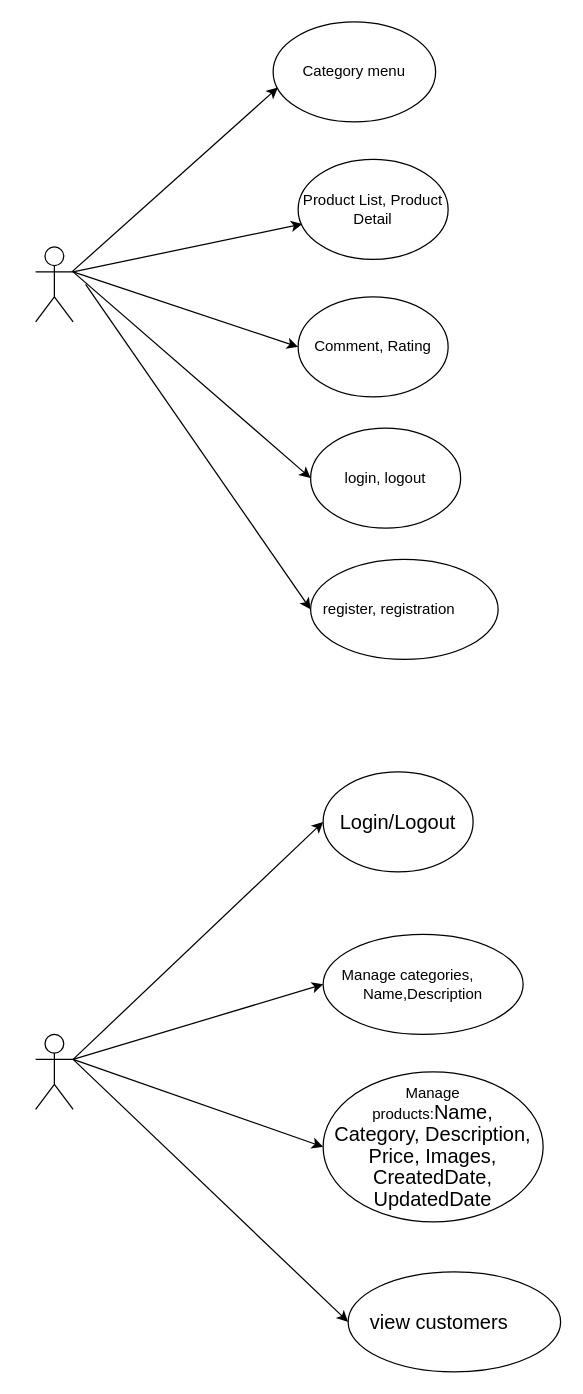
Some shapes in this 583 by 1394 pixel diagram are drawn without their labels. Here are the shapes that lost their labels. From the top down, the centre of each, then its label:
the point at 53,284: Customer
the point at 53,1071: Admin
